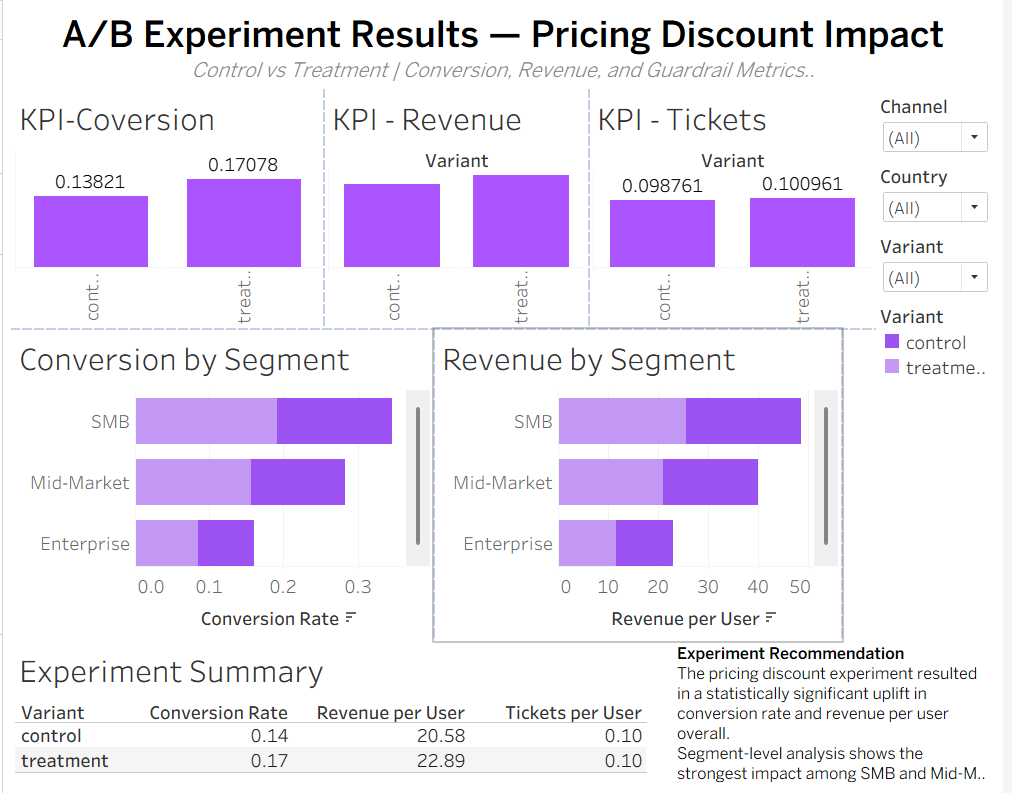

The dashboard page shown, as its layout file describes it:
{"tool":"tableau","page":{"name":"Dashboard 1","canvas":[1000,800],"ordinal":0},"visuals":[{"type":"text","box":[8,8,984,81]},{"type":"worksheet","title":"KPI-Coversion","mark":"Bar","rows":["Calculation_0689975366897664"],"cols":["variant"],"box":[8,89,312.9,240.2]},{"type":"worksheet","title":"KPI - Revenue","mark":"Bar","rows":["Calculation_0689975367098369"],"cols":["variant"],"box":[320.9,89,265.5,240.2]},{"type":"worksheet","title":"KPI - Tickets","mark":"Automatic","rows":["Calculation_0689975367405570"],"cols":["variant"],"box":[586.4,89,286.6,240.2]},{"type":"filter","title":"KPI - Revenue","param":"[federated.0ubgklb1h9klwd1csxaq102rwwc9].[none:channel:nk]","box":[873,89,119,70]},{"type":"filter","title":"KPI - Revenue","param":"[federated.0ubgklb1h9klwd1csxaq102rwwc9].[none:country:nk]","box":[873,159,119,70]},{"type":"filter","title":"KPI - Revenue","param":"[federated.0ubgklb1h9klwd1csxaq102rwwc9].[none:variant:nk]","box":[873,229,119,70]},{"type":"legend","title":"Conversion by Segment","param":"[federated.0ubgklb1h9klwd1csxaq102rwwc9].[none:variant:nk]","box":[873,299,119,84]},{"type":"worksheet","title":"Conversion by Segment","mark":"Bar","rows":["segment"],"cols":["Calculation_0689975366897664"],"box":[8,329.2,423.1,311.8]},{"type":"worksheet","title":"Revenue by Segment","mark":"Bar","rows":["segment"],"cols":["Calculation_0689975367098369"],"box":[431.1,329.2,408.4,311.8]},{"type":"worksheet","title":"Experiment Summary","mark":"Automatic","rows":["variant"],"box":[8,641,658,151]},{"type":"text","box":[666,641,326,151]}]}

Visuals, with their boxes in screenshot pixels (x1, y1, x2, y2), scaled from the page's 1000x800 canvas onto the 1012x793 screenshot:
text: detection(8, 8, 1004, 88)
"KPI-Coversion" worksheet (Bar marks): detection(8, 88, 325, 326)
"KPI - Revenue" worksheet (Bar marks): detection(325, 88, 593, 326)
"KPI - Tickets" worksheet: detection(593, 88, 883, 326)
"KPI - Revenue" filter: detection(883, 88, 1004, 158)
"KPI - Revenue" filter: detection(883, 158, 1004, 227)
"KPI - Revenue" filter: detection(883, 227, 1004, 296)
"Conversion by Segment" legend: detection(883, 296, 1004, 380)
"Conversion by Segment" worksheet (Bar marks): detection(8, 326, 436, 635)
"Revenue by Segment" worksheet (Bar marks): detection(436, 326, 850, 635)
"Experiment Summary" worksheet: detection(8, 635, 674, 785)
text: detection(674, 635, 1004, 785)
